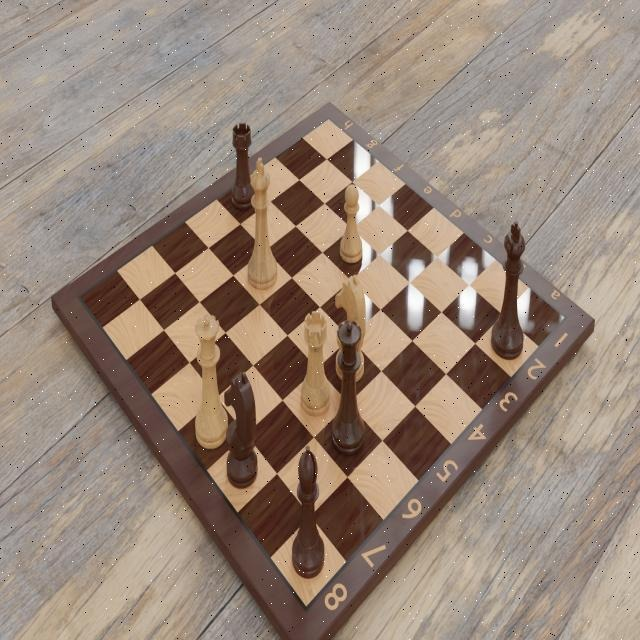black-bishop: (290, 444, 328, 584)
black-king: (490, 216, 527, 361)
black-knight: (226, 369, 262, 491), (334, 269, 370, 379)
black-queen: (329, 316, 367, 464)
black-rook: (229, 119, 255, 213)
white-king: (245, 156, 280, 296)
white-pawn: (337, 183, 367, 267)
white-queen: (194, 310, 234, 450)
white-rook: (298, 306, 334, 421)
